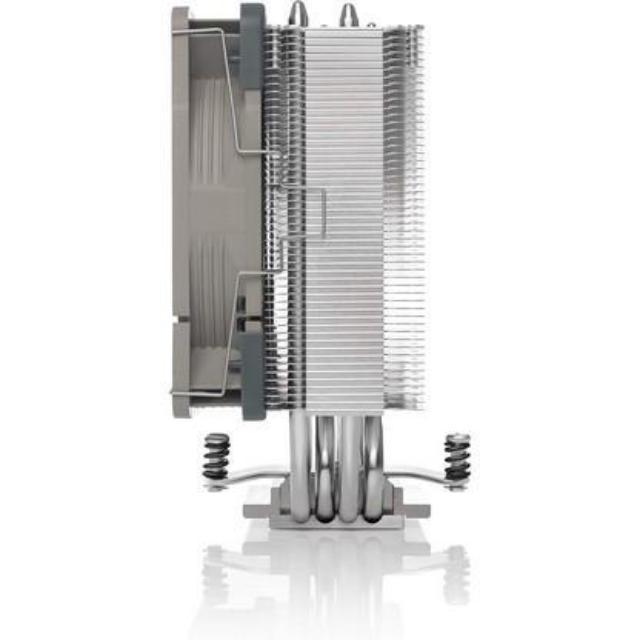CPU_Fan: (115, 6, 502, 566)
